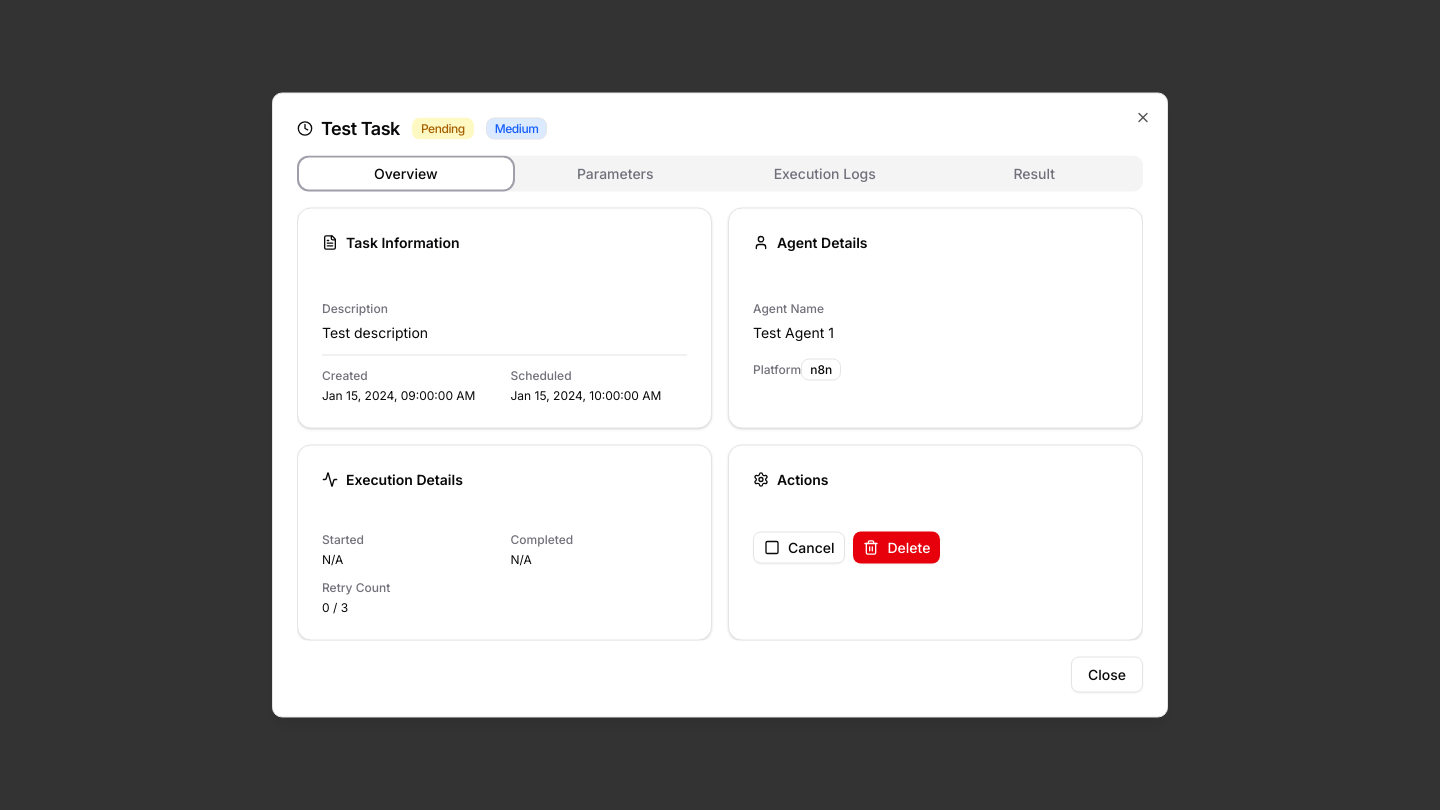
Test: TaskDetailModal › shows no result message when result is empty
The width and height of the screenshot is (1440, 810).
Click the tab "Result" at (1034, 174), box [930,160,1139,188]
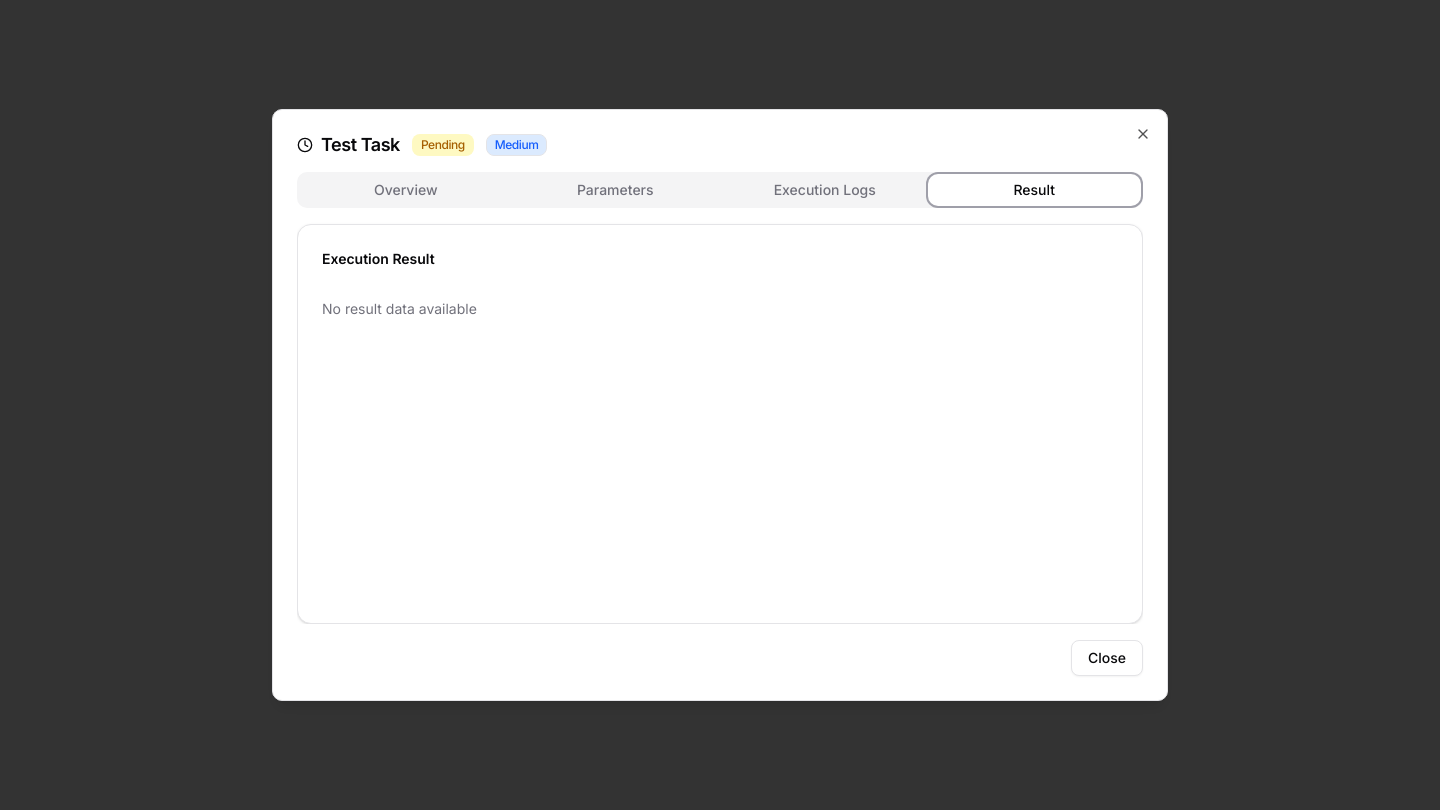
Result: the text "No result data available" is shown at [322,300,477,317]
